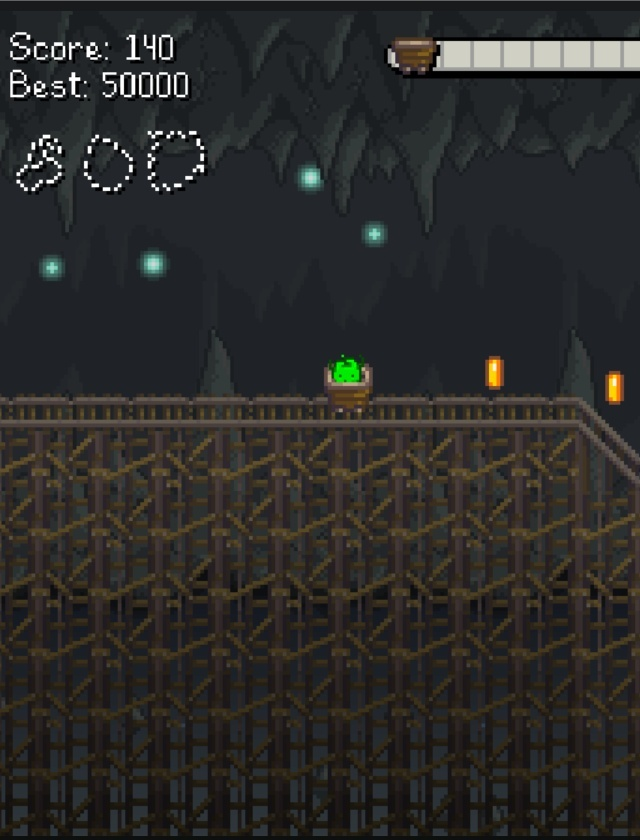minecart: (325, 364, 371, 411), (485, 356, 503, 389), (606, 371, 623, 404)
tracks: (0, 382, 639, 493)
